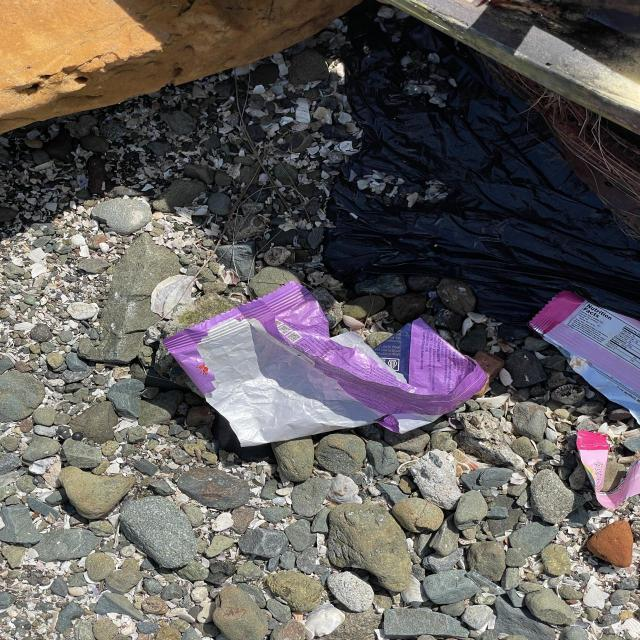plastic_waste: (166, 286, 497, 452), (526, 290, 638, 512)
